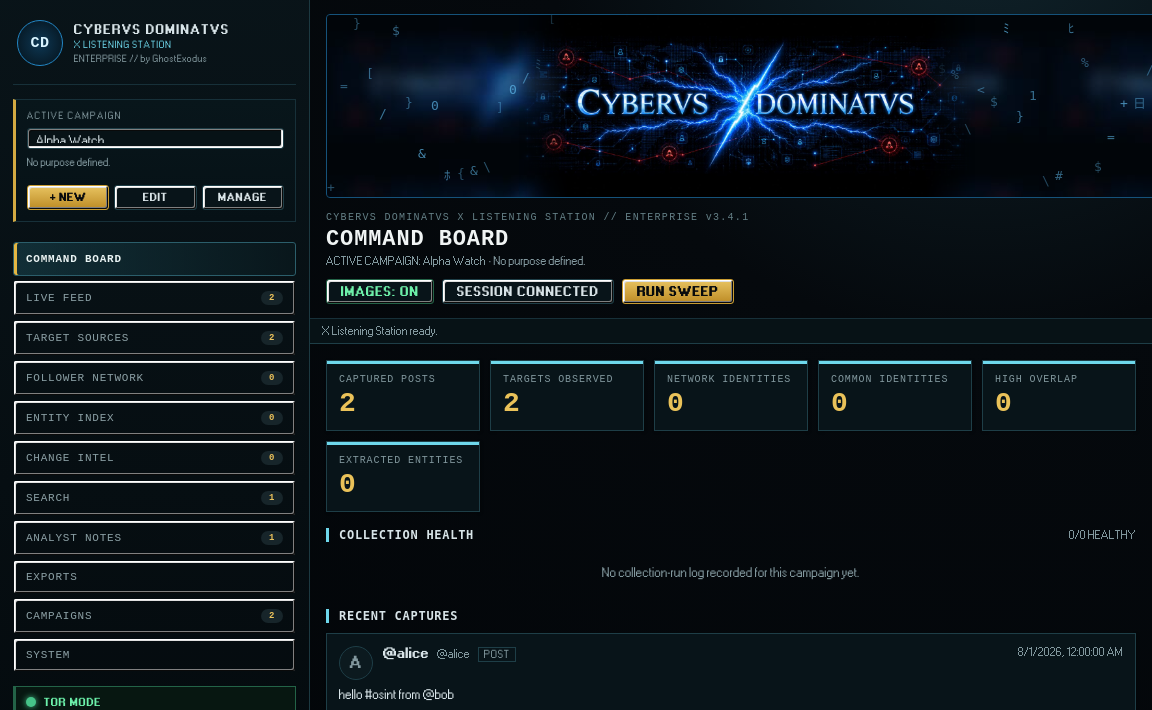
Test case: X Listening Station tabs (Task 15) › exports tab drives the real exportPostsToFile channel per format
What coordinates should you click on to do the following:
click the button with class "xls-tab" showing "EXPORTS"
I would click on:
 (52, 577)
Its box is x1=13 y1=560 x2=296 y2=594.
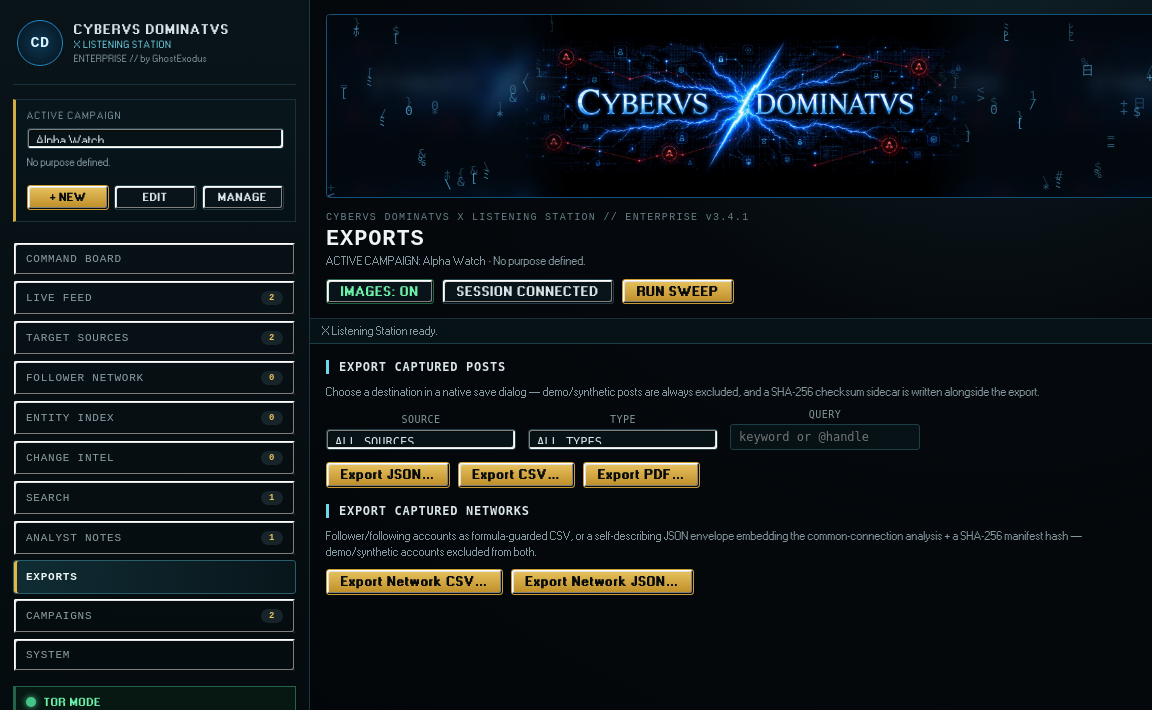
What coordinates should you click on to do the following:
click the button "Export JSON…"
I would click on:
 (388, 475)
Its box is x1=326 y1=462 x2=450 y2=488.
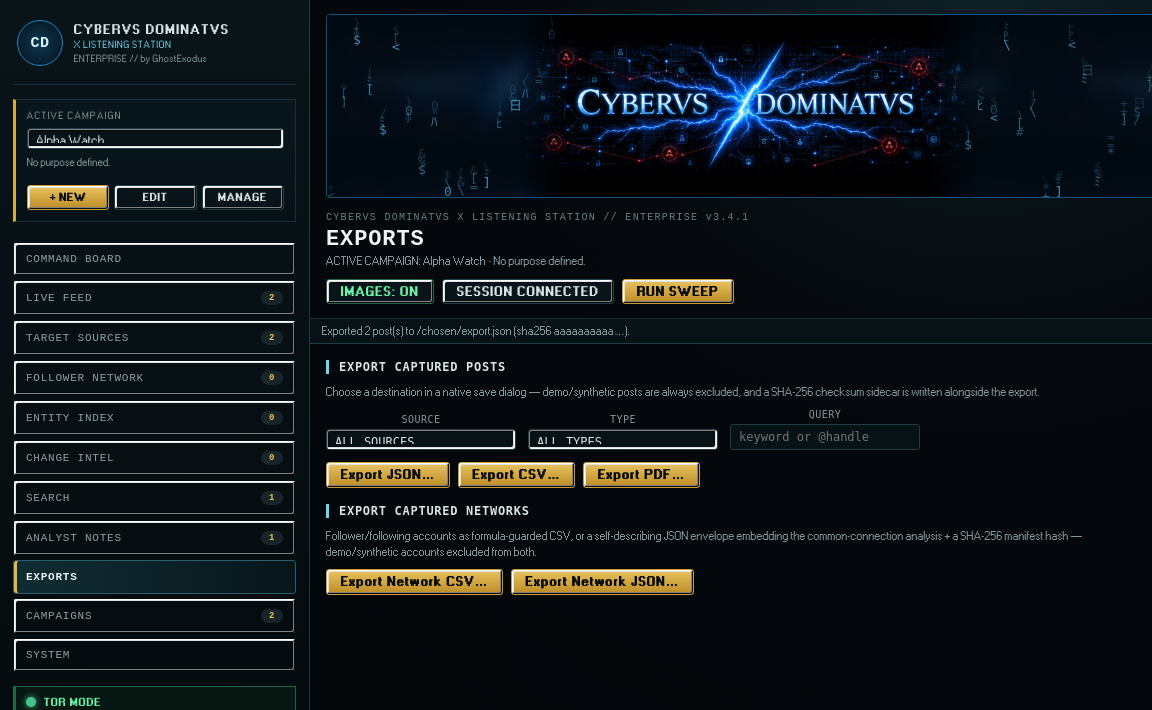
Now the text "Exported 2 post(s) to /chosen/export.json" is shown, box x1=322 y1=325 x2=630 y2=337
